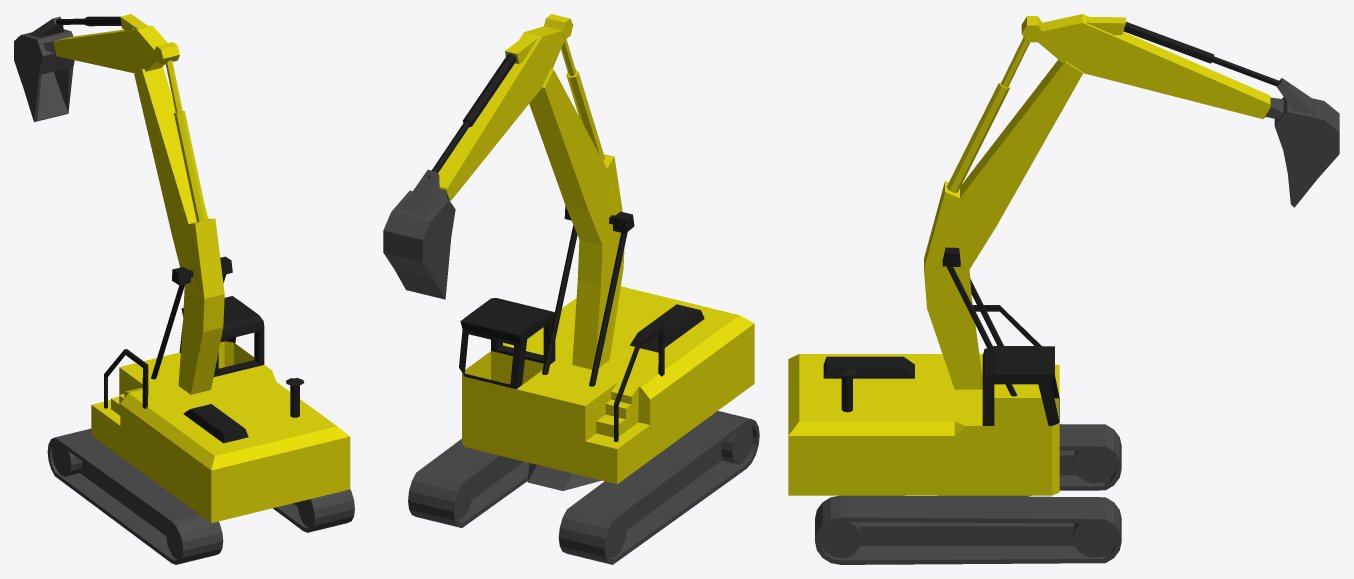
The model's file is excavator.gltf.
The picture shows the model from 3 angles, left to right: view 1: azimuth 30°, elevation 25°; view 2: azimuth 150°, elevation 25°; view 3: azimuth 270°, elevation 25°; orthographic projection. The views are drawn at different scales.
Visible parts, largest first — view 1: Cube, Cylinder, Cube.001, Cube.002; view 2: Cube, Cylinder, Cube.001, Cube.002, Cube.003; view 3: Cube, Cylinder, Cube.001, Cube.002.
Boxes of the visible parts, x1,y1,x2,y2 form: Cube: (91, 28, 350, 522); Cylinder: (47, 428, 354, 564); Cube.001: (53, 14, 167, 73); Cube.002: (14, 16, 74, 121); Cube: (459, 14, 754, 484); Cylinder: (408, 411, 759, 564); Cube.001: (428, 26, 564, 200); Cube.002: (383, 169, 455, 299); Cube.003: (527, 463, 601, 490); Cube: (788, 16, 1083, 495); Cylinder: (815, 424, 1121, 564); Cube.001: (1038, 14, 1288, 118); Cube.002: (1265, 78, 1339, 207).
Size of the model in its own units: 1.04 by 2.53 by 2.55.
